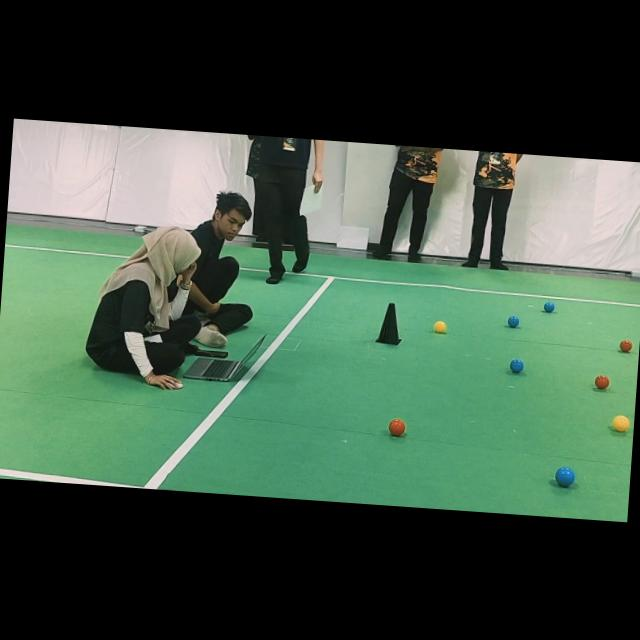ball: (388, 418, 405, 435), (612, 415, 630, 431), (594, 375, 609, 388), (510, 359, 524, 372), (619, 339, 633, 352), (433, 321, 446, 333), (507, 315, 519, 327), (544, 301, 554, 312), (556, 468, 560, 473), (620, 423, 622, 425)
